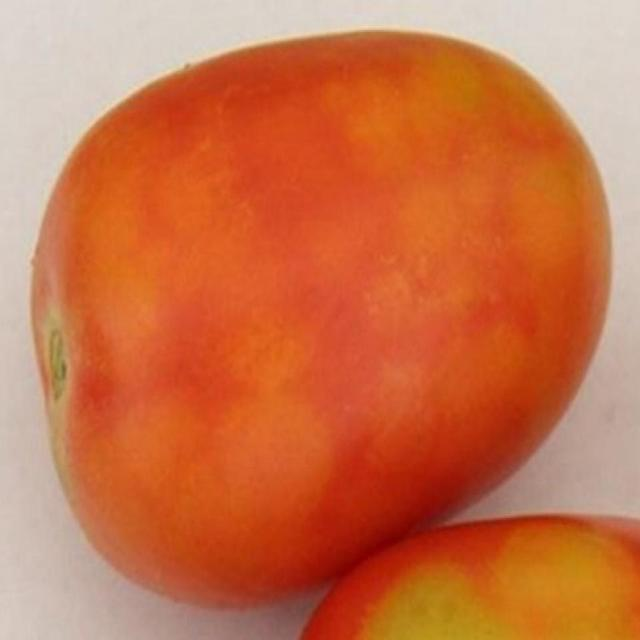Spotted wilt Virus Fruit: (18, 20, 409, 402)
